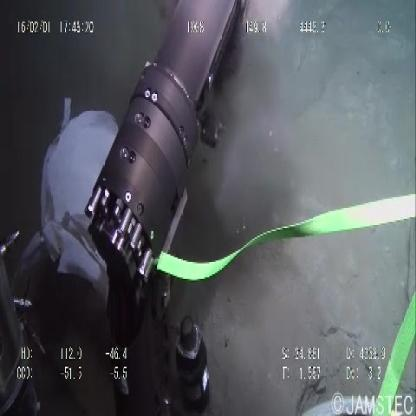Rov: (81, 1, 254, 394)
Rác: (38, 98, 128, 292)
